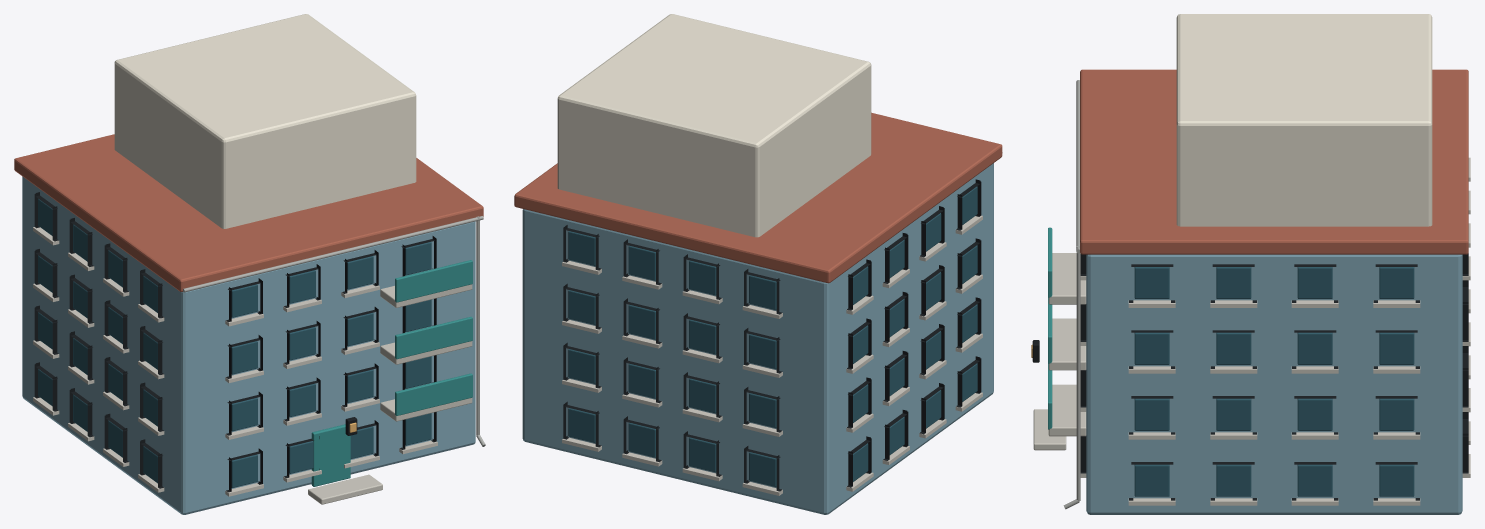
File: RES_MID_2x2_004.glb
The picture shows the model from 3 angles, left to right: view 1: azimuth 30°, elevation 25°; view 2: azimuth 150°, elevation 25°; view 3: azimuth 270°, elevation 25°; orthographic projection. The views are drawn at different scales.
Parts seen in each view (by area): view 1: RES_MID_2x2_004_Visual; view 2: RES_MID_2x2_004_Visual; view 3: RES_MID_2x2_004_Visual.
Boxes of the visible parts, x1,y1,x2,y2 form: RES_MID_2x2_004_Visual: (14,14,485,514); RES_MID_2x2_004_Visual: (514,14,1002,514); RES_MID_2x2_004_Visual: (1031,14,1470,514).
Size of what is drawn, in the model's own units: 3.28 by 3.36 by 3.51.
